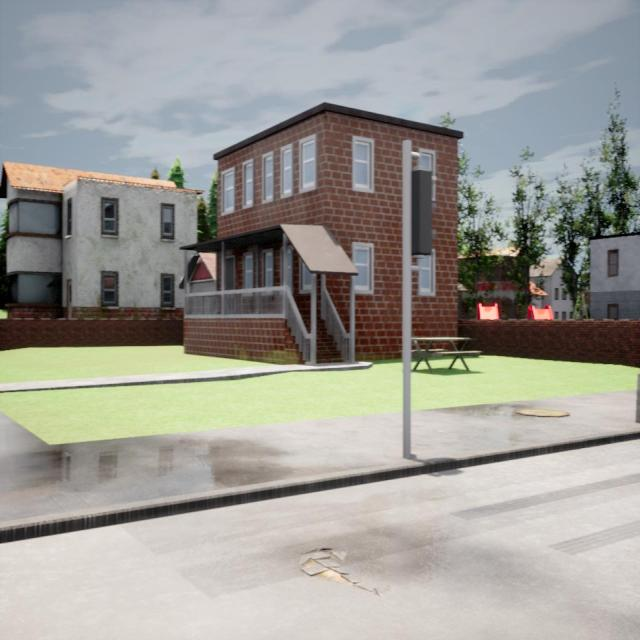traffic_light: (412, 170, 438, 256)
